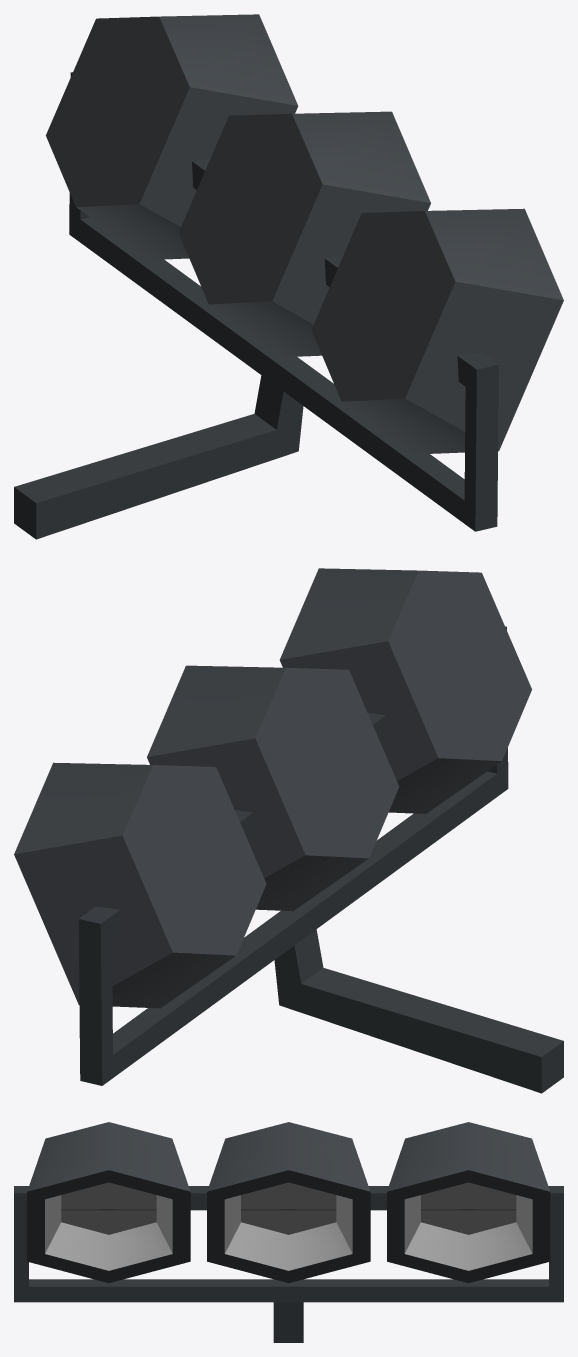
The model's file is SM_Prop_Pole_Large_Lights_03.fbx.
3 renders of one model, top to bottom at view 1: azimuth 30°, elevation 25°; view 2: azimuth 150°, elevation 25°; view 3: azimuth 270°, elevation 25°, orthographic. The views are drawn at different scales.
Parts seen in each view (by area): view 1: SM_Prop_Pole_Large_Lights_03; view 2: SM_Prop_Pole_Large_Lights_03; view 3: SM_Prop_Pole_Large_Lights_03.
Boxes of the visible parts, x1=… form: SM_Prop_Pole_Large_Lights_03: x1=14, y1=14, x2=563, y2=539; SM_Prop_Pole_Large_Lights_03: x1=14, y1=568, x2=563, y2=1093; SM_Prop_Pole_Large_Lights_03: x1=14, y1=1122, x2=563, y2=1342.
Bounding box in the file's own units: 131 × 120 × 251.
